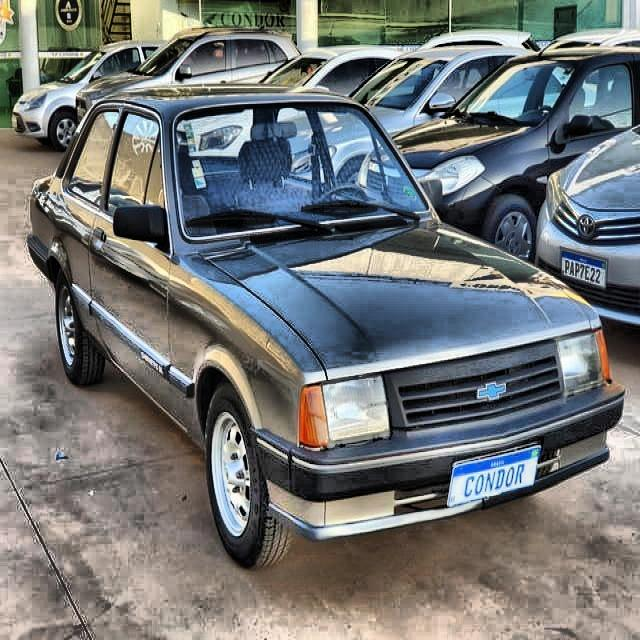carro: (29, 88, 626, 572)
